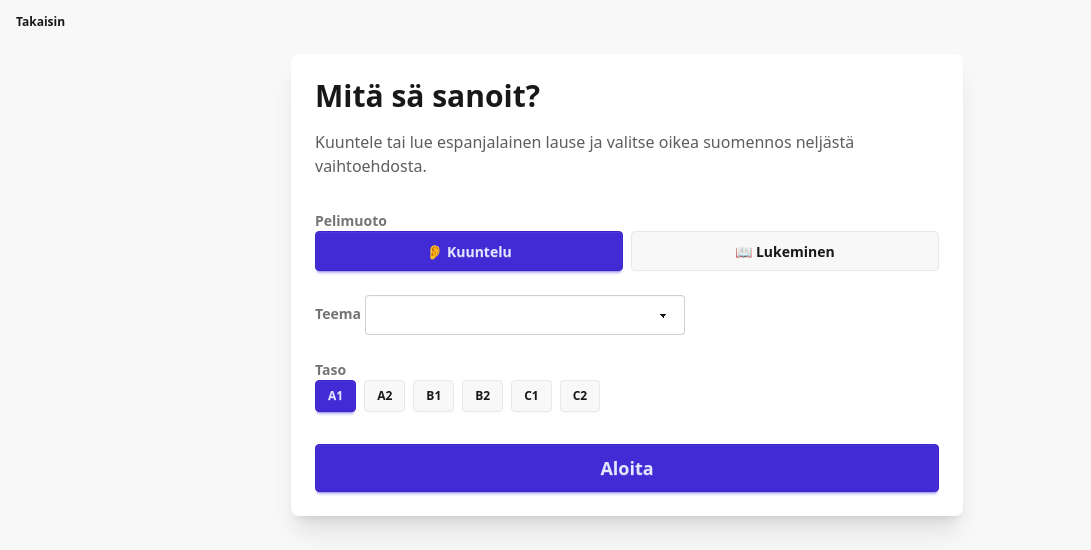
Scenario: Mitä sä sanoit Page › renders report state with score summary and play again button
# Start game
Click the button "Aloita": (627, 468) [315,444,939,492]
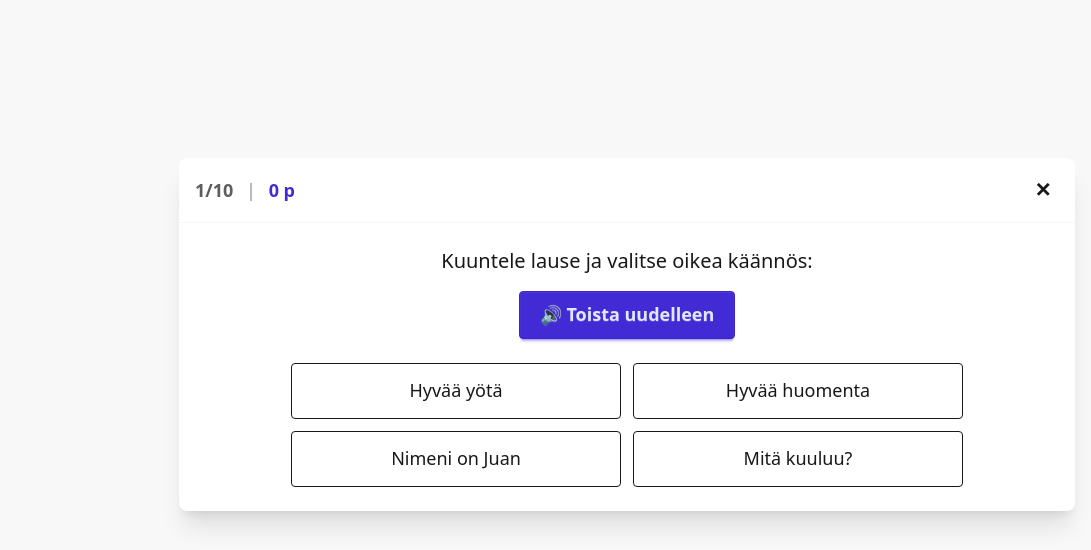
Check: the button "✕" is shown, box [1027,174,1059,206]
